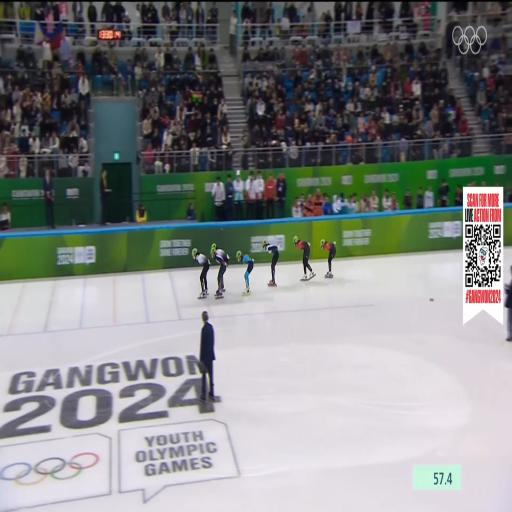Skater: (211, 244, 229, 298), (294, 236, 315, 280), (192, 248, 209, 298), (236, 251, 253, 295), (263, 241, 278, 286), (321, 239, 335, 277)
